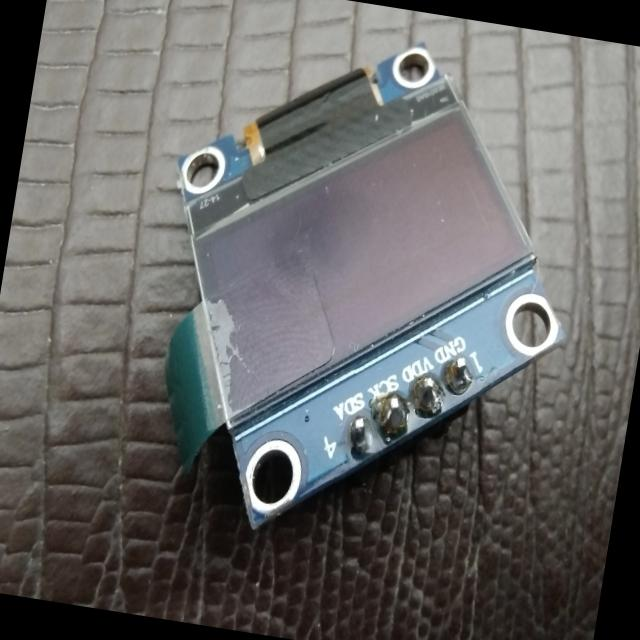oled: (113, 4, 611, 580)
